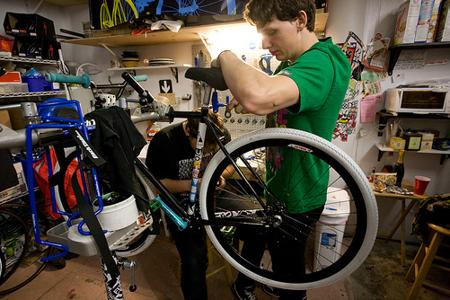person: (206, 1, 352, 300)
